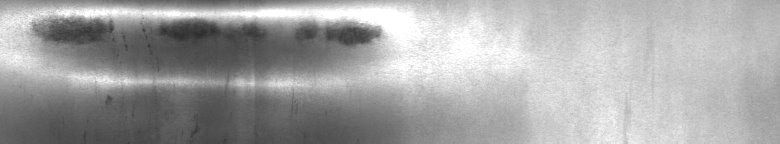ke: (4, 4, 404, 136)
